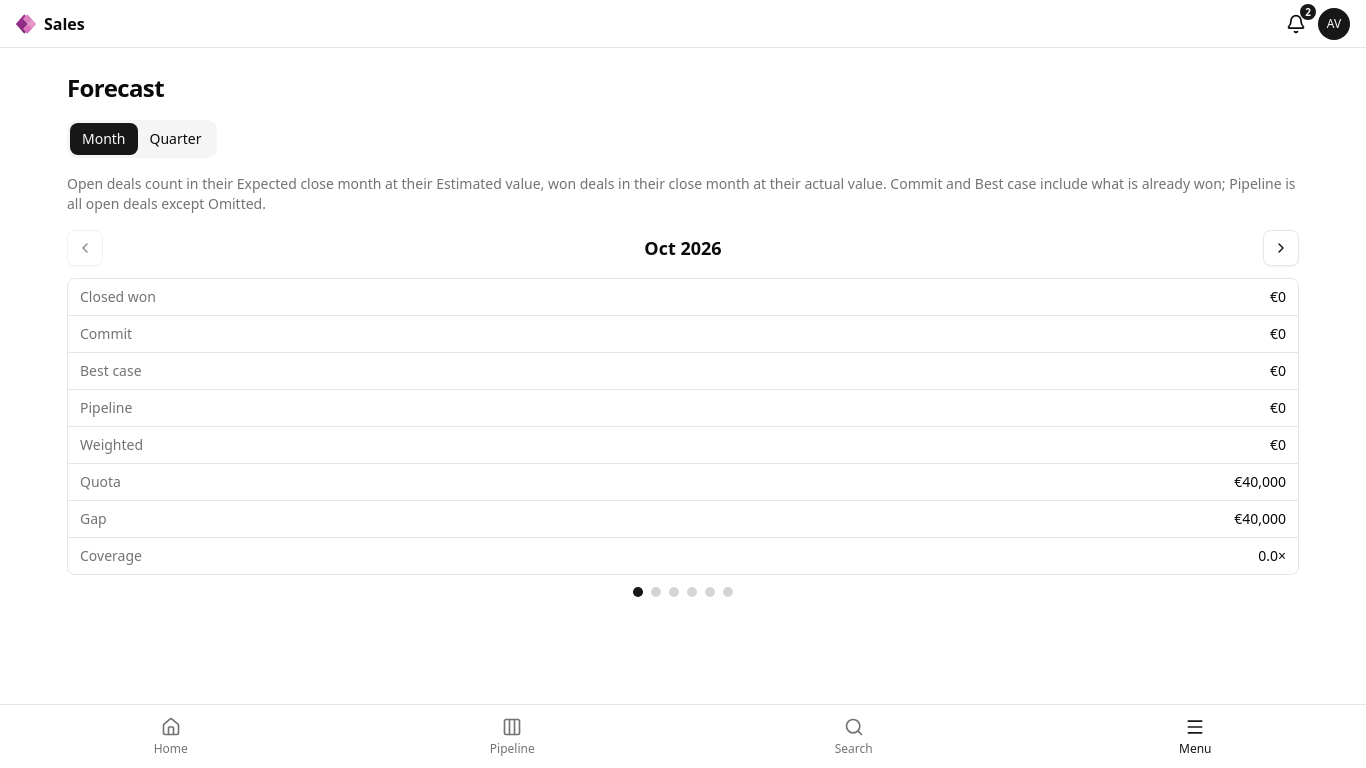
Scenario: Forecast tab › shows one period at a time on a phone, with nothing to scroll sideways
Expected: the heading "Oct 2026" is shown, x1=644 y1=234 x2=722 y2=262
Expected: the button named "Previous period" is disabled, x1=67 y1=230 x2=103 y2=266
Click the button named "Next period". click: (1281, 248)
box: x1=1263 y1=230 x2=1299 y2=266
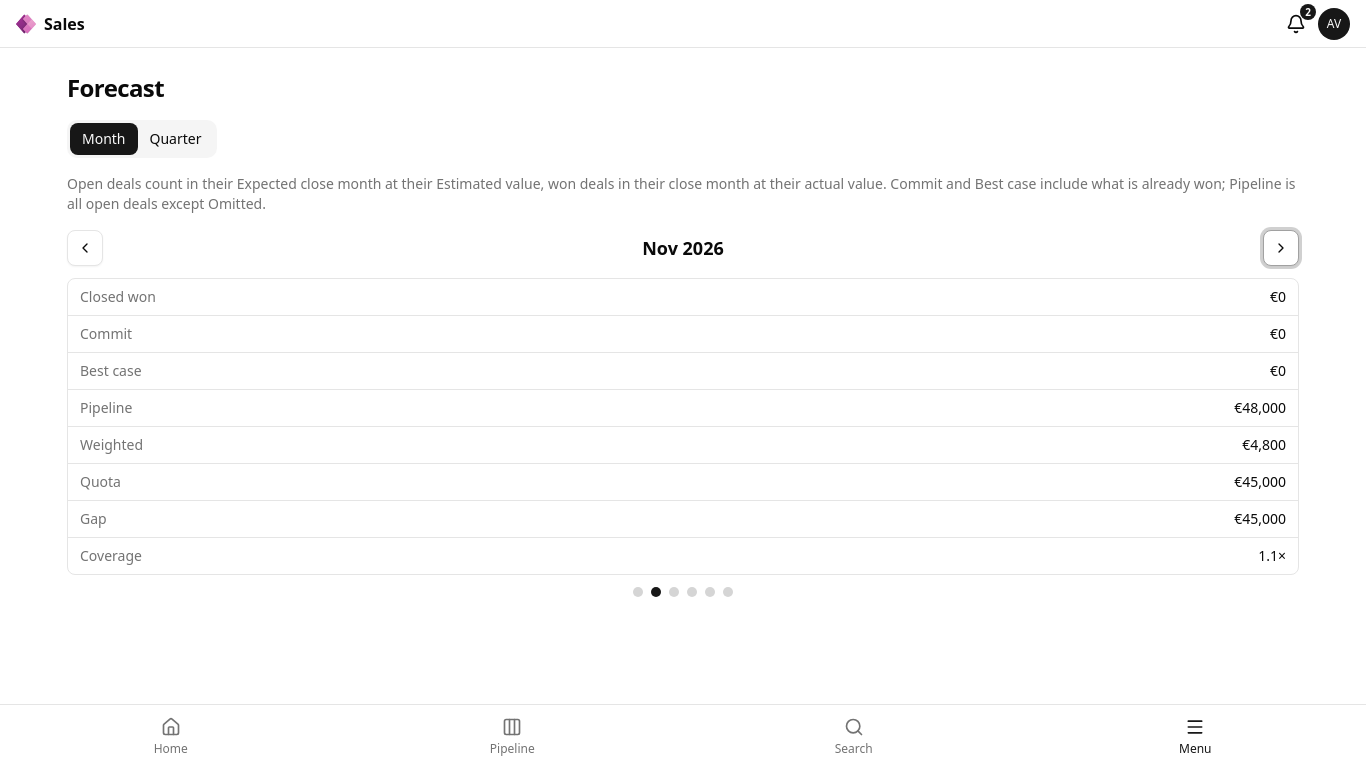
Expected: the heading "Nov 2026" is shown, x1=642 y1=234 x2=724 y2=262
Expected: the text "€48,000" is shown, x1=1234 y1=398 x2=1286 y2=418
Click the button named "Mar 2027". click: (728, 592)
box: x1=723 y1=587 x2=733 y2=597
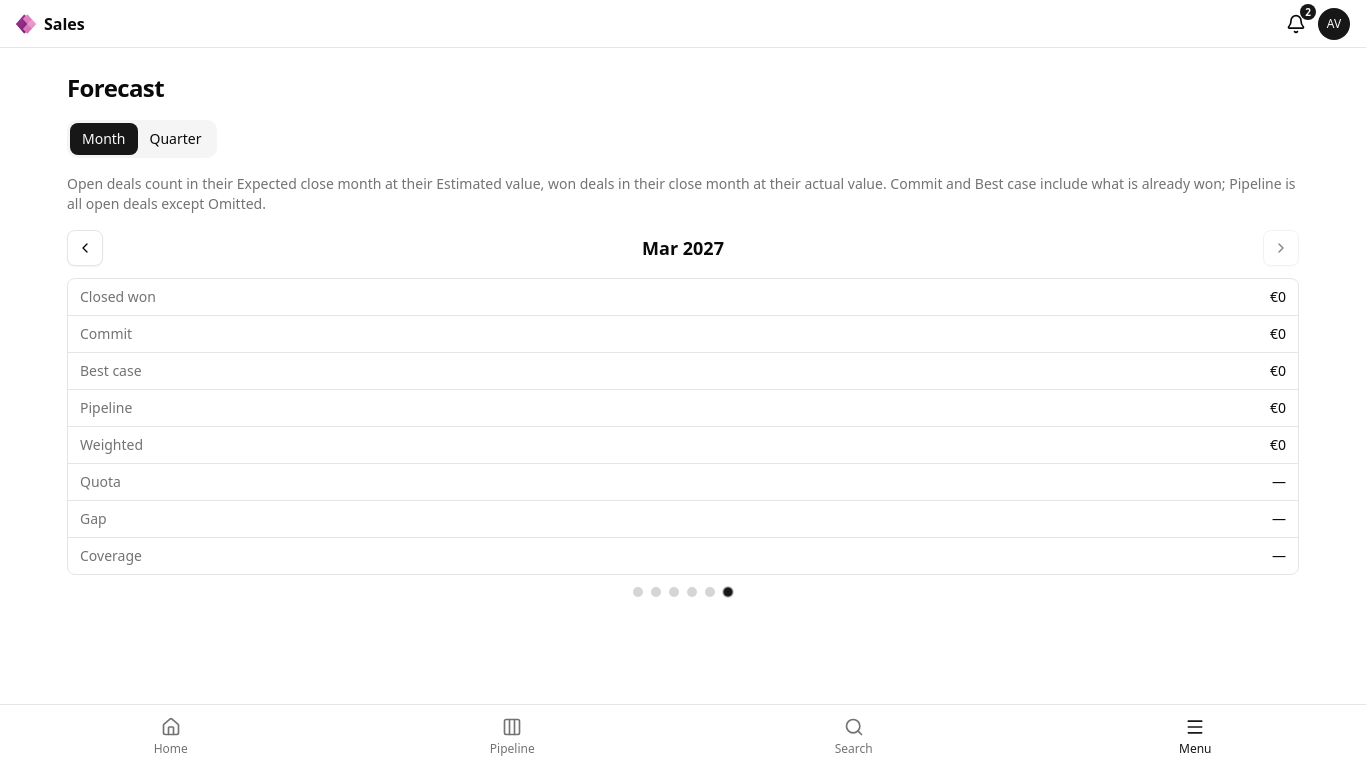
Expected: the heading "Mar 2027" is shown, x1=642 y1=234 x2=724 y2=262
Expected: the button named "Next period" is disabled, x1=1263 y1=230 x2=1299 y2=266
